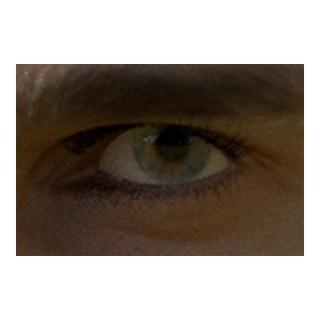pupil: (157, 128, 189, 160)
